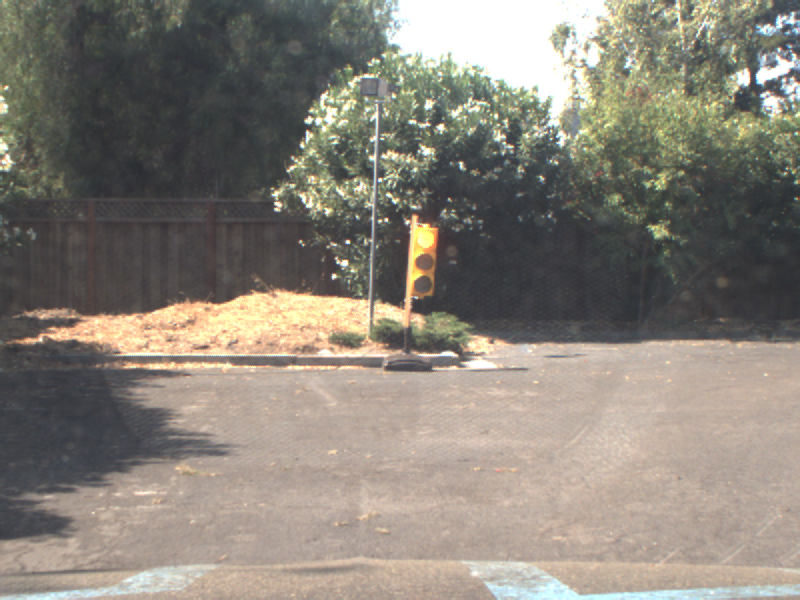red: (406, 216, 437, 299)
